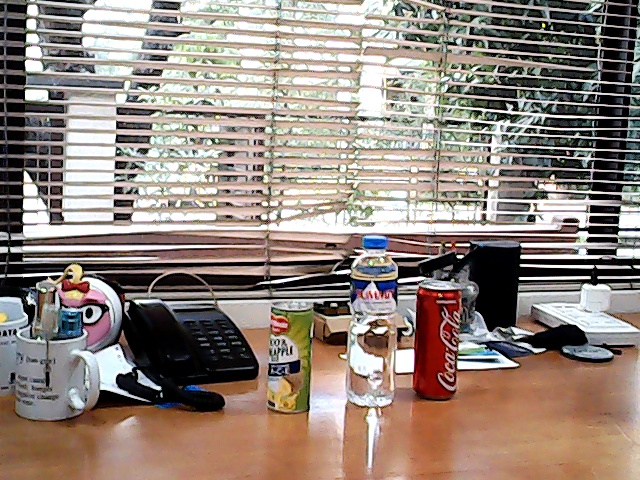Cola: (405, 272, 474, 401)
Pine Juice: (255, 291, 325, 421)
Summit Water: (336, 231, 409, 414)
